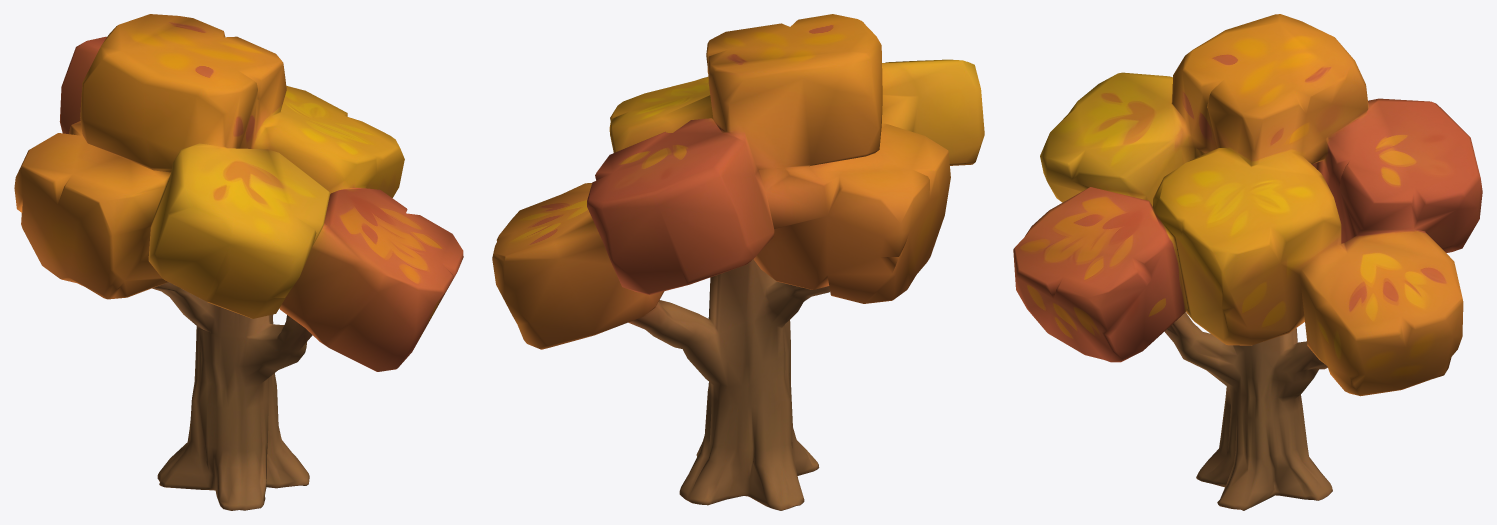
File: tripo_raw.glb
The picture shows the model from 3 angles, left to right: view 1: azimuth 30°, elevation 25°; view 2: azimuth 150°, elevation 25°; view 3: azimuth 270°, elevation 25°; orthographic projection. The views are drawn at different scales.
Parts seen in each view (by area): view 1: tripo_node_0843bbc7-27c3-4e74-b2e1-5dc92a494b36; view 2: tripo_node_0843bbc7-27c3-4e74-b2e1-5dc92a494b36; view 3: tripo_node_0843bbc7-27c3-4e74-b2e1-5dc92a494b36.
Part boxes in pixels (box(x1,y1,x2,y2)): tripo_node_0843bbc7-27c3-4e74-b2e1-5dc92a494b36: box(14, 14, 463, 510); tripo_node_0843bbc7-27c3-4e74-b2e1-5dc92a494b36: box(492, 14, 984, 510); tripo_node_0843bbc7-27c3-4e74-b2e1-5dc92a494b36: box(1013, 14, 1482, 510).
Bounding box in the file's own units: 0.8356 × 0.9765 × 1.
1 material, 1 textured.
